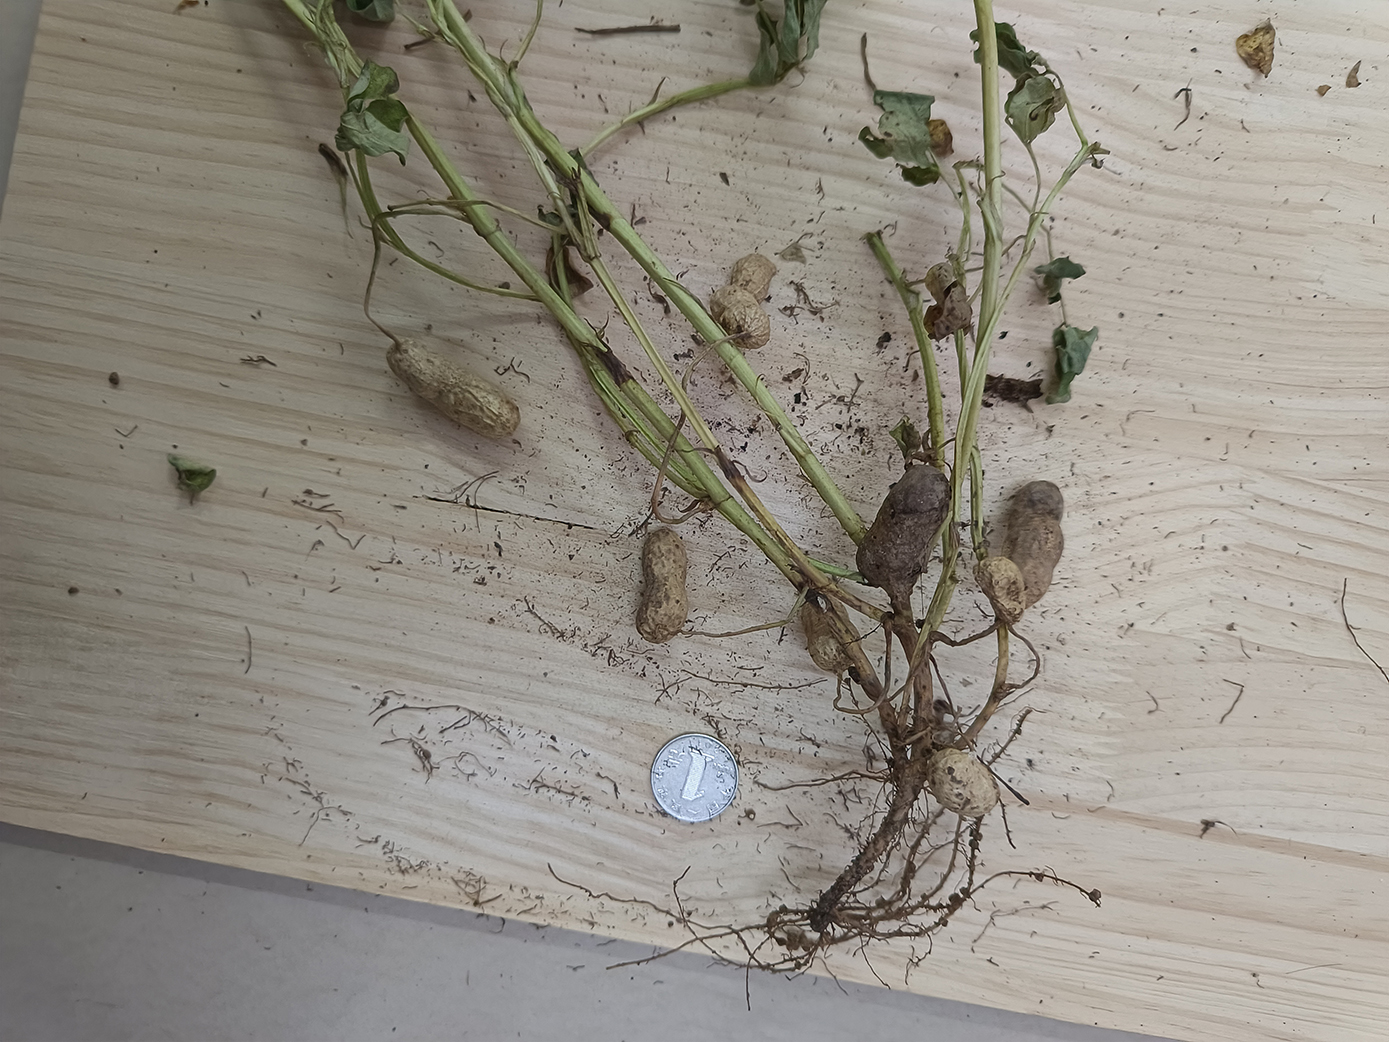h: (386, 338, 522, 439), (709, 252, 777, 348), (635, 526, 690, 645), (926, 746, 1002, 817), (802, 593, 863, 673), (973, 557, 1026, 623)
l: (856, 463, 952, 587), (1006, 481, 1064, 611)
